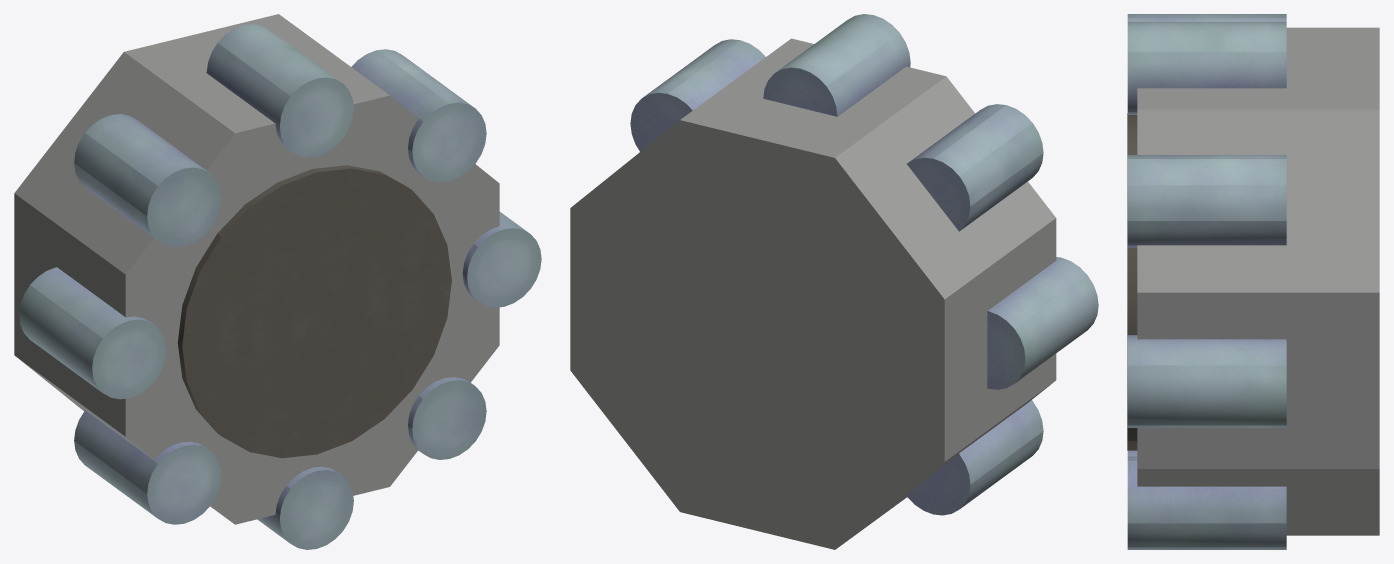
The model's file is module-timeline-01.glb.
3 renders of one model, left to right at view 1: azimuth 30°, elevation 25°; view 2: azimuth 150°, elevation 25°; view 3: azimuth 270°, elevation 25°, orthographic. The views are drawn at different scales.
Visible parts, largest first — view 1: Mesh_0.004; view 2: Mesh_0.004; view 3: Mesh_0.004.
Part boxes in pixels (x1=…): Mesh_0.004: x1=14, y1=14, x2=541, y2=549; Mesh_0.004: x1=570, y1=14, x2=1098, y2=549; Mesh_0.004: x1=1127, y1=14, x2=1379, y2=549.
Size of the model in its own units: 1.67 by 1.67 by 0.7435.
Materials: 1 (1 with a texture image).
